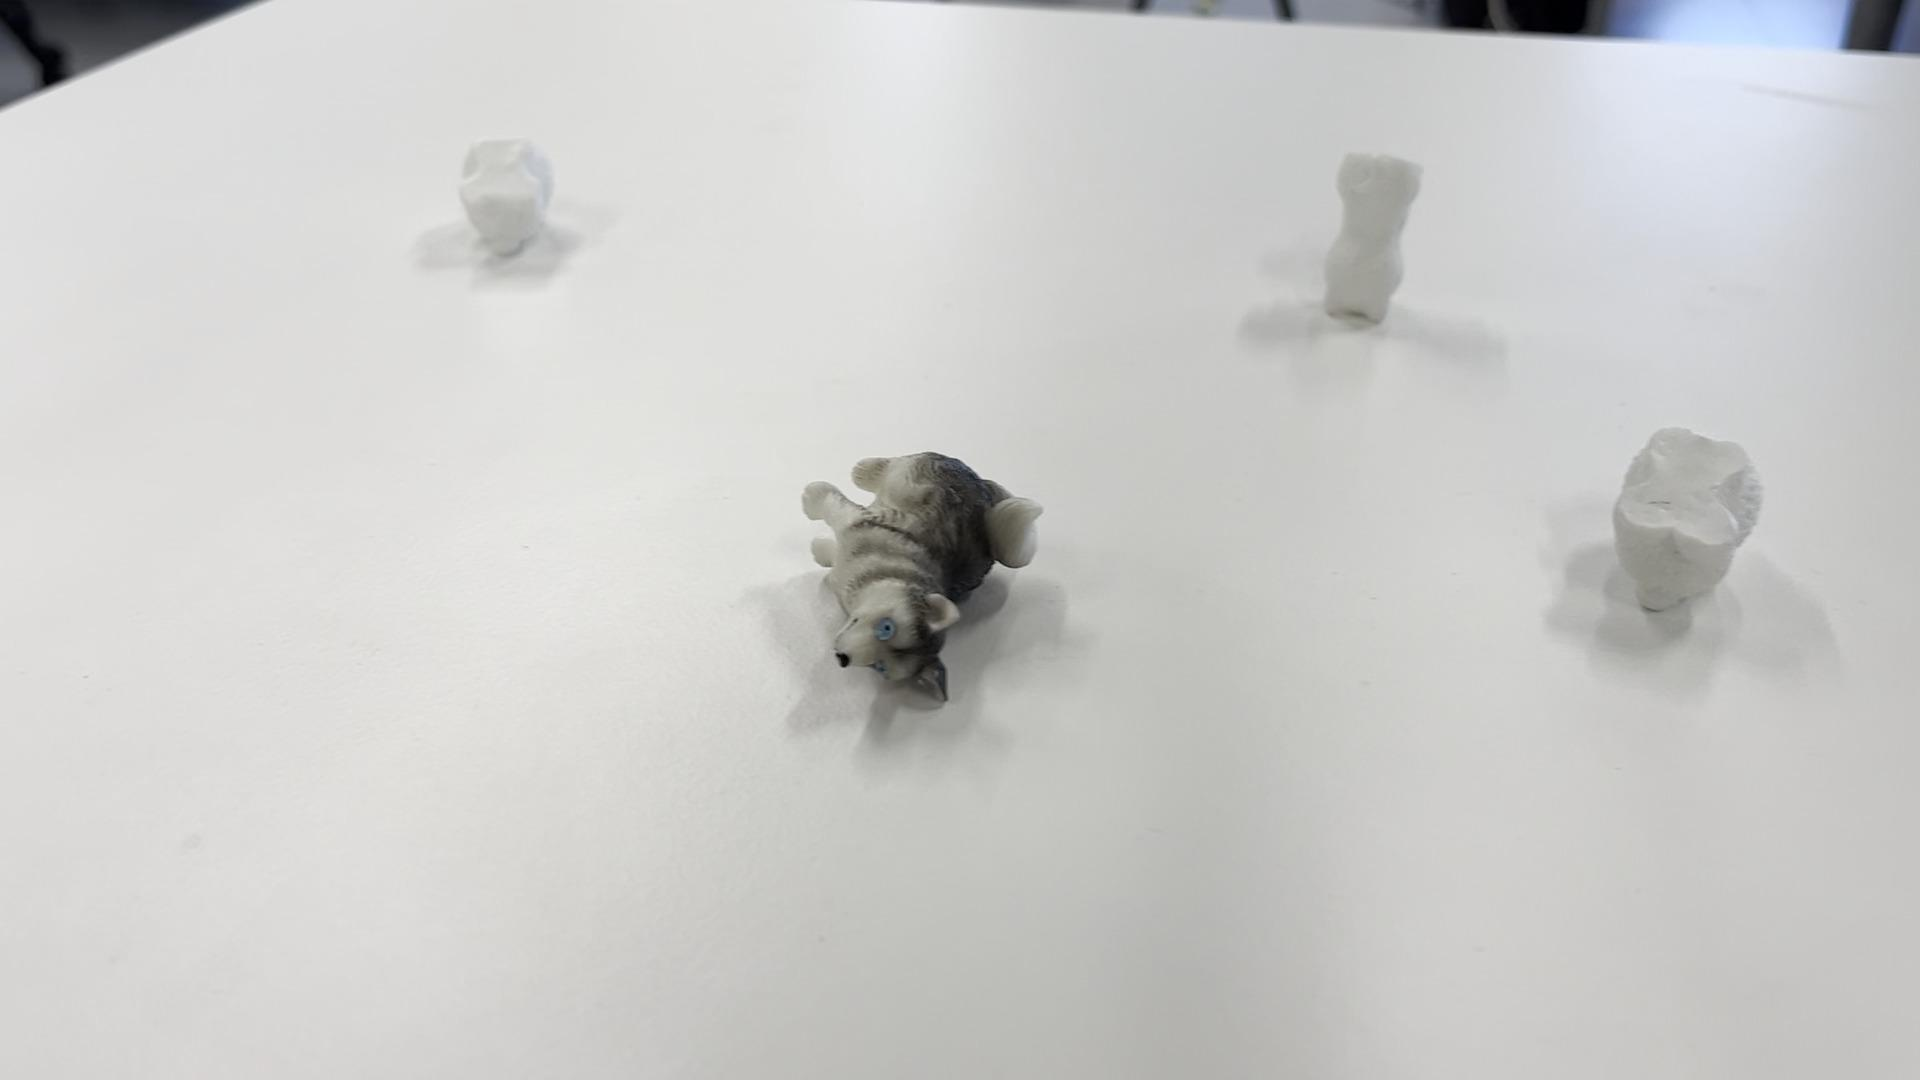pet: (771, 421, 1059, 764), (1582, 365, 1796, 636), (1312, 121, 1456, 385), (407, 96, 596, 291)
